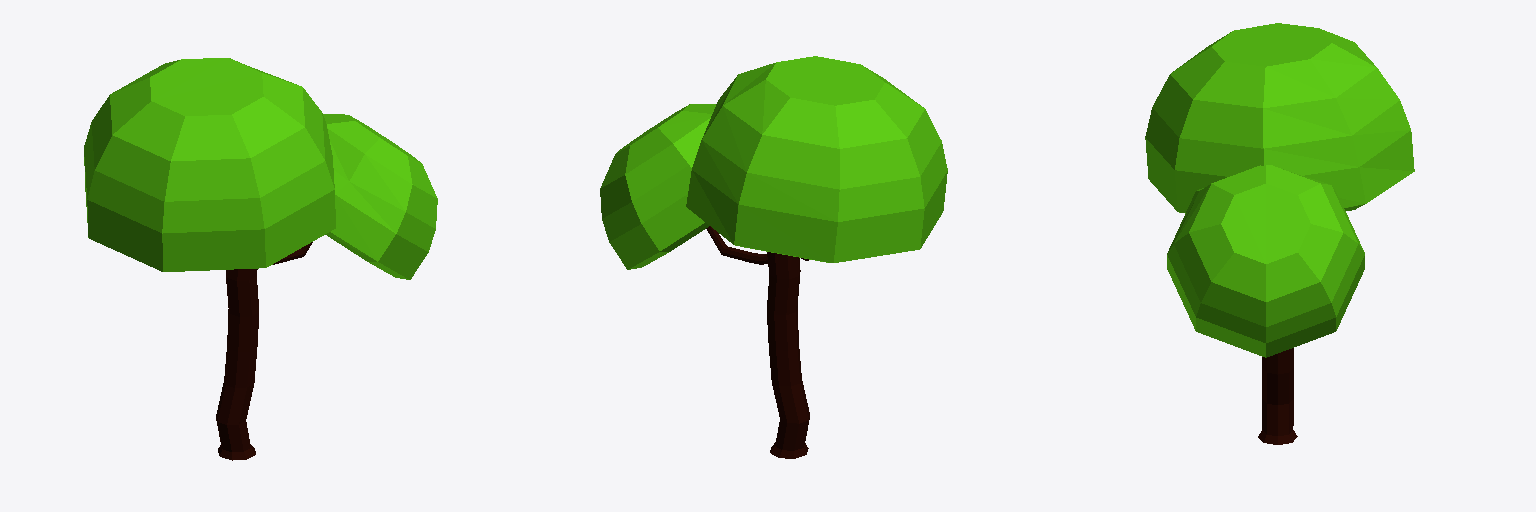
File: Tree_02.obj
The picture shows the model from 3 angles: view 1: azimuth 30°, elevation 25°; view 2: azimuth 150°, elevation 25°; view 3: azimuth 270°, elevation 25°; orthographic projection.
Visible parts, largest first — view 1: Tree_02; view 2: Tree_02; view 3: Tree_02.
Boxes of the visible parts, <box> form: Tree_02: <box>84,58,437,460</box>; Tree_02: <box>600,56,947,458</box>; Tree_02: <box>1145,23,1414,444</box>.
Bounding box in the file's own units: 8.58 × 9.6 × 6.15.